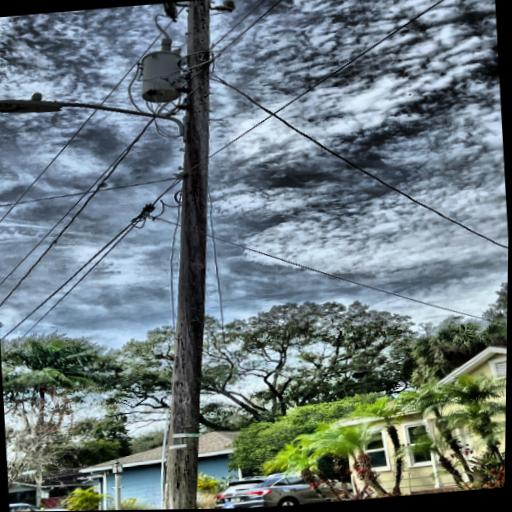pole: (110, 0, 265, 510)
street light: (0, 77, 194, 160)
transformer: (137, 48, 187, 105)
